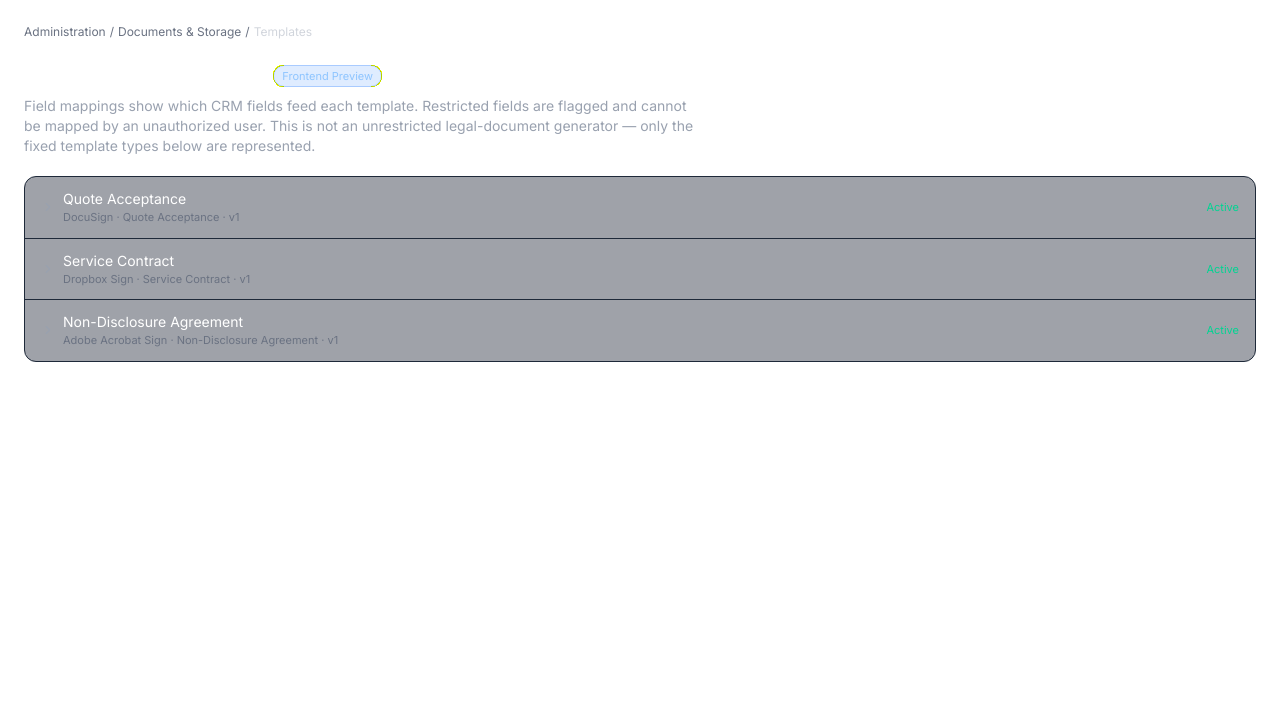
SignatureTemplatesList › lists templates and expands field mappings, restricting sensitive fields for a standard role
Check: the text "Quote Acceptance" is shown, box [63,190,186,207]
Click the text "Service Contract".
click(119, 260)  # box [63,252,174,268]
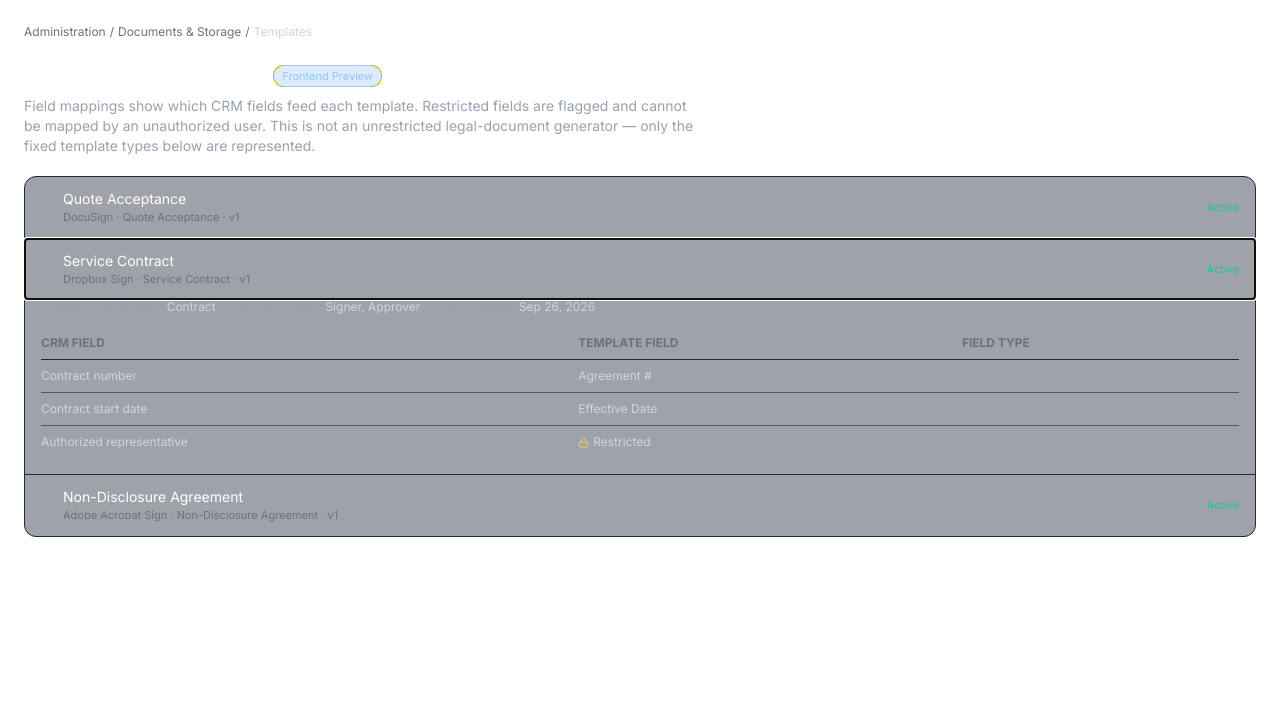
Check: the text "Related CRM Module:" is shown, box [41,299,167,314]
Check: the text "Restricted" is shown, box [578,426,962,458]
